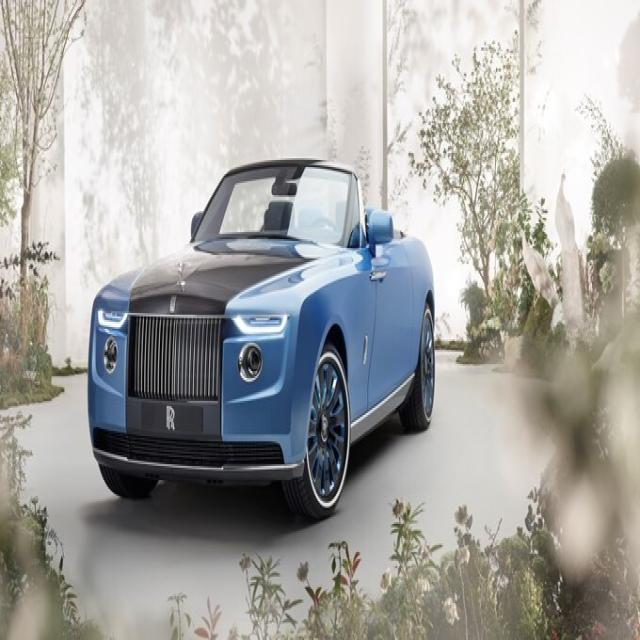Car: (88, 132, 443, 530)
